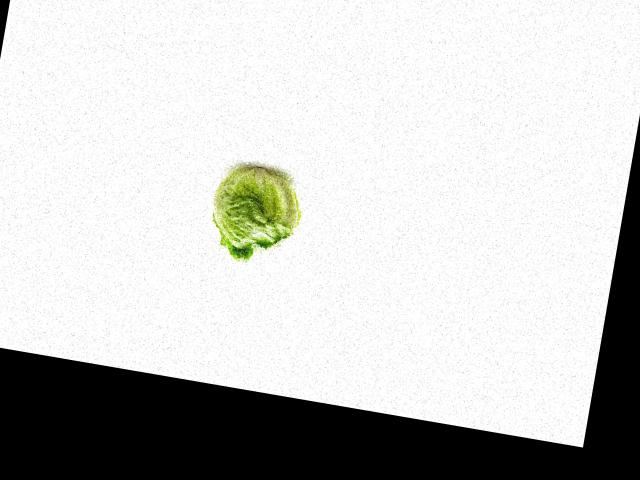lettuce: (201, 156, 316, 271)
